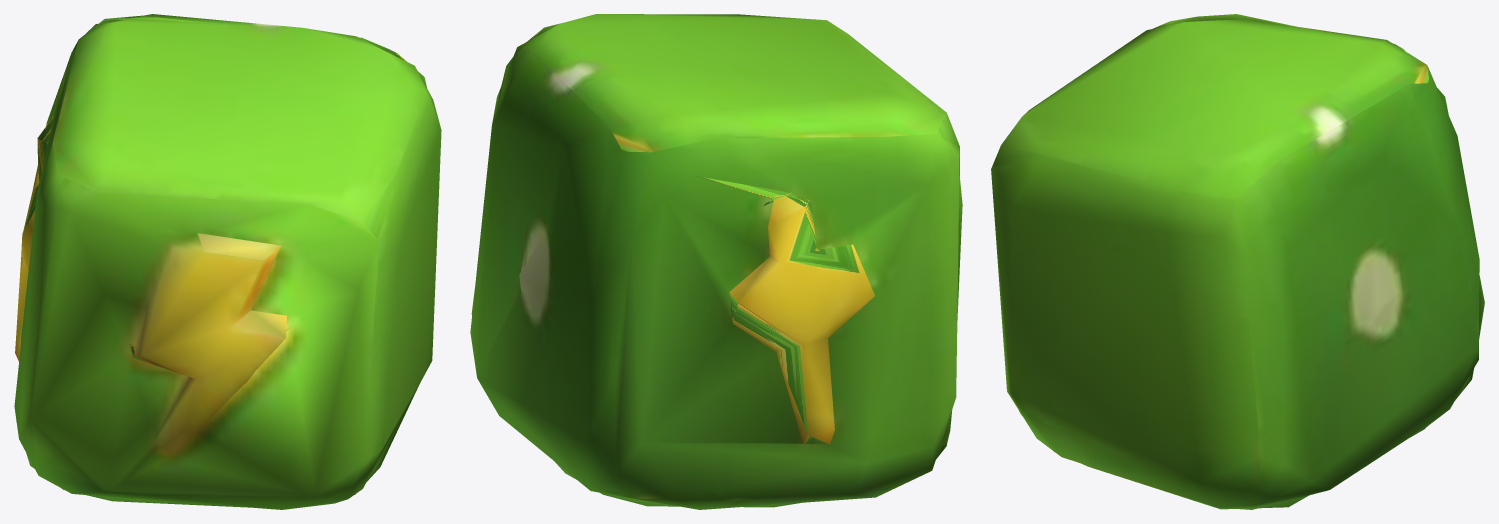
File: token-energy-lite.glb
The picture shows the model from 3 angles, left to right: view 1: azimuth 30°, elevation 25°; view 2: azimuth 150°, elevation 25°; view 3: azimuth 270°, elevation 25°; orthographic projection. The views are drawn at different scales.
Parts seen in each view (by area): view 1: geometry_0; view 2: geometry_0; view 3: geometry_0.
Boxes of the visible parts, x1,y1,x2,y2 form: geometry_0: (14,14,441,509); geometry_0: (470,14,962,509); geometry_0: (991,14,1484,509).
Size of the model in its own units: 0.9235 by 0.7974 by 0.9358.
Materials: 1 (1 with a texture image).
